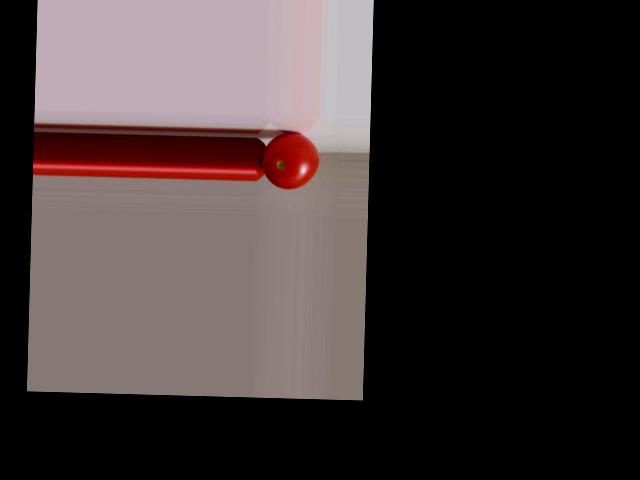tomato: (262, 132, 319, 189)
